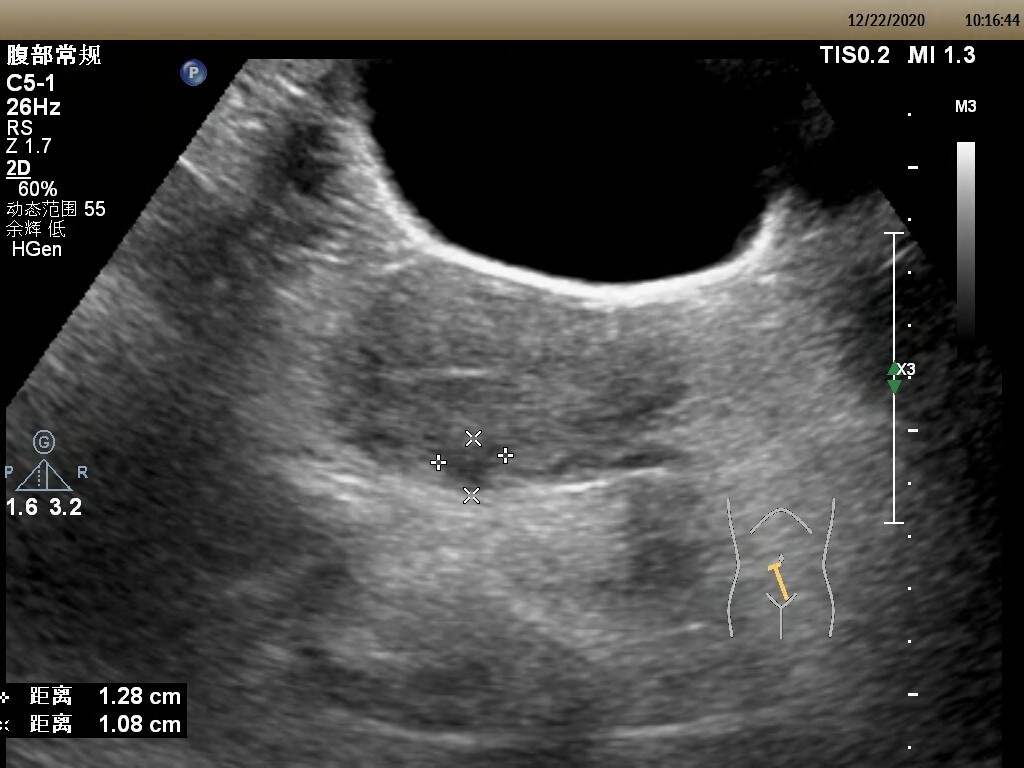肌瘤: (442, 437, 507, 488)
